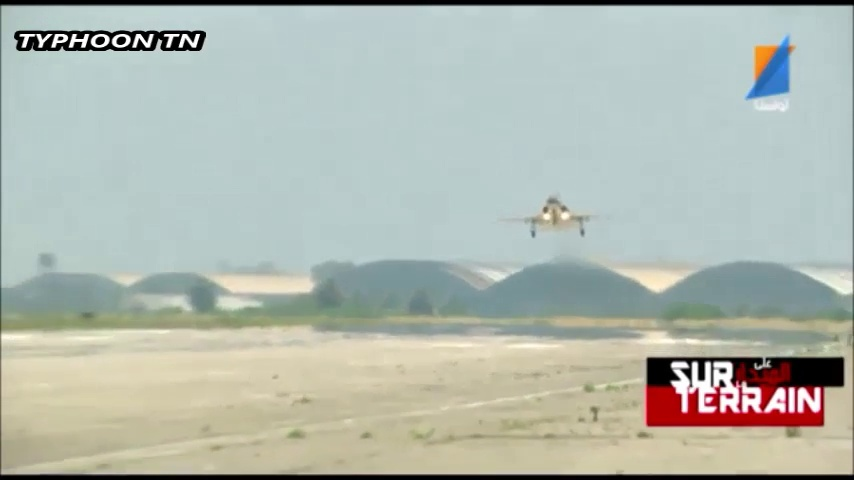Airplane: (513, 197, 603, 238)
